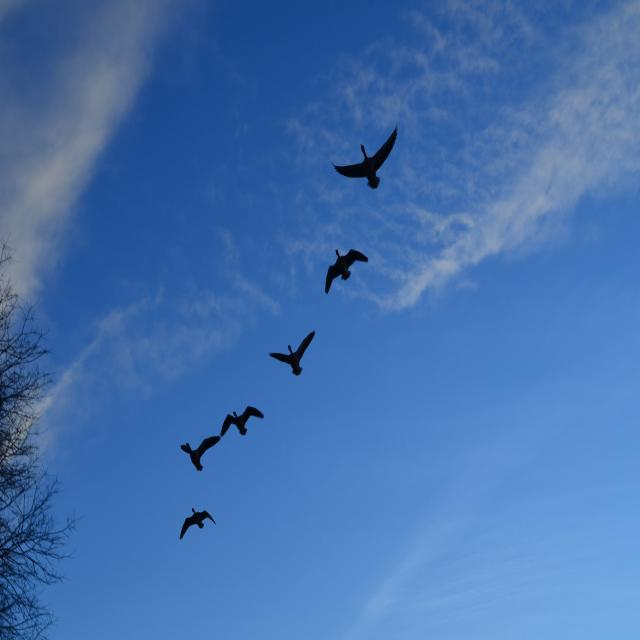bird: (329, 122, 403, 193), (267, 331, 317, 376), (324, 247, 370, 294), (178, 438, 223, 474), (218, 406, 264, 439), (179, 510, 216, 542)
